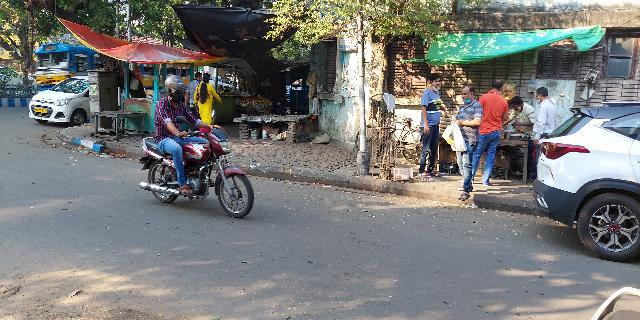Car: (532, 99, 640, 263), (24, 72, 89, 127)
Motorbike: (113, 74, 258, 221)
